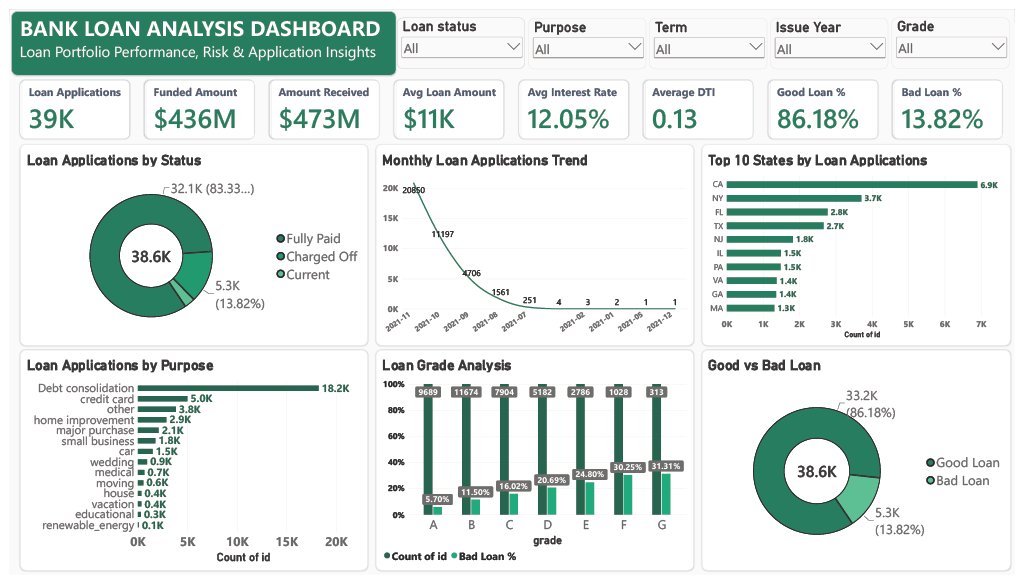

This screenshot's page, from the dashboard's own definition file:
{"tool":"powerbi","page":{"name":"Bank Loan Analysis","canvas":[2560,1440],"ordinal":0},"visuals":[{"type":"cardVisual","fields":{"Data":["DAX.Total Loan Applications"]},"box":[26,180,280,150],"z":0},{"type":"cardVisual","fields":{"Data":["DAX.Good Loan %"]},"box":[1931.5,180,280,150],"z":1000},{"type":"cardVisual","fields":{"Data":["DAX.Total Funded Amount"]},"box":[344.1,180,280,150],"z":2000},{"type":"cardVisual","fields":{"Data":["DAX.Total Amount Received"]},"box":[661.6,180,280,150],"z":3000},{"type":"cardVisual","fields":{"Data":["DAX.Average Loan Amount"]},"box":[979.1,180,280,150],"z":4000},{"type":"cardVisual","fields":{"Data":["DAX.Average Interest Rate"]},"box":[1296.6,180,280,150],"z":5000},{"type":"cardVisual","fields":{"Data":["DAX.Bad Loan %"]},"box":[2249,180,280,150],"z":6000},{"type":"cardVisual","fields":{"Data":["DAX.Average DTI"]},"box":[1614,180,280,150],"z":7000},{"type":"donutChart","title":"Loan Applications by Status","fields":{"Category":["loan_applications.loan_status"],"Y":["Count(loan_applications.id)"]},"box":[26.7,343.3,886.7,513.3],"z":8000},{"type":"lineChart","title":"Monthly Loan Applications Trend","fields":{"Y":["Count(loan_applications.id)"],"Category":["loan_applications.Issue Year Month"]},"box":[933.3,343.3,810,513.3],"z":9000},{"type":"donutChart","title":"Good vs Bad Loan","fields":{"Category":["loan_applications.loan_category"],"Y":["Count(loan_applications.id)"]},"box":[1763.3,866.7,786.7,563.3],"z":10000},{"type":"clusteredBarChart","title":"Loan Applications by Purpose","fields":{"Category":["loan_applications.purpose"],"Y":["Count(loan_applications.id)"]},"box":[26.7,866.7,886.7,563.3],"z":11000},{"type":"lineClusteredColumnComboChart","title":"Loan Grade Analysis","fields":{"Category":["loan_applications.grade"],"Y":["Count(loan_applications.id)","DAX.Bad Loan %"]},"box":[933.3,866.7,810,563.3],"z":12000},{"type":"clusteredBarChart","title":"Top 10 States by Loan Applications","fields":{"Category":["loan_applications.address_state"],"Y":["Count(loan_applications.id)"]},"box":[1763.3,343.3,786.7,513.3],"z":13000},{"type":"slicer","fields":{"Values":["loan_applications.issue_year"]},"box":[1938.3,22.2,300,130],"z":14000},{"type":"slicer","fields":{"Values":["loan_applications.loan_status"]},"box":[986.7,21.1,326.7,130],"z":15000},{"type":"slicer","fields":{"Values":["loan_applications.grade"]},"box":[2246.7,21.1,300,130],"z":16000},{"type":"slicer","fields":{"Values":["loan_applications.purpose"]},"box":[1321.7,22.2,300,130],"z":17000},{"type":"slicer","fields":{"Values":["loan_applications.term"]},"box":[1630,22.2,300,130],"z":18000},{"type":"textbox","box":[5,5,980,163.3],"z":19000}]}

Visuals, with their boxes in screenshot pixels (x1, y1, x2, y2), scaled from the page's 2560x1440 canvas onto the 1024x584 screenshot:
cardVisual - DAX.Total Loan Applications: box=[10, 73, 122, 134]
cardVisual - DAX.Good Loan %: box=[773, 73, 885, 134]
cardVisual - DAX.Total Funded Amount: box=[138, 73, 250, 134]
cardVisual - DAX.Total Amount Received: box=[265, 73, 377, 134]
cardVisual - DAX.Average Loan Amount: box=[392, 73, 504, 134]
cardVisual - DAX.Average Interest Rate: box=[519, 73, 631, 134]
cardVisual - DAX.Bad Loan %: box=[900, 73, 1012, 134]
cardVisual - DAX.Average DTI: box=[646, 73, 758, 134]
"Loan Applications by Status" donutChart: box=[11, 139, 365, 347]
"Monthly Loan Applications Trend" lineChart: box=[373, 139, 697, 347]
"Good vs Bad Loan" donutChart: box=[705, 351, 1020, 580]
"Loan Applications by Purpose" clusteredBarChart: box=[11, 351, 365, 580]
"Loan Grade Analysis" lineClusteredColumnComboChart: box=[373, 351, 697, 580]
"Top 10 States by Loan Applications" clusteredBarChart: box=[705, 139, 1020, 347]
slicer - loan_applications.issue_year: box=[775, 9, 895, 62]
slicer - loan_applications.loan_status: box=[395, 9, 525, 61]
slicer - loan_applications.grade: box=[899, 9, 1019, 61]
slicer - loan_applications.purpose: box=[529, 9, 649, 62]
slicer - loan_applications.term: box=[652, 9, 772, 62]
textbox: box=[2, 2, 394, 68]
